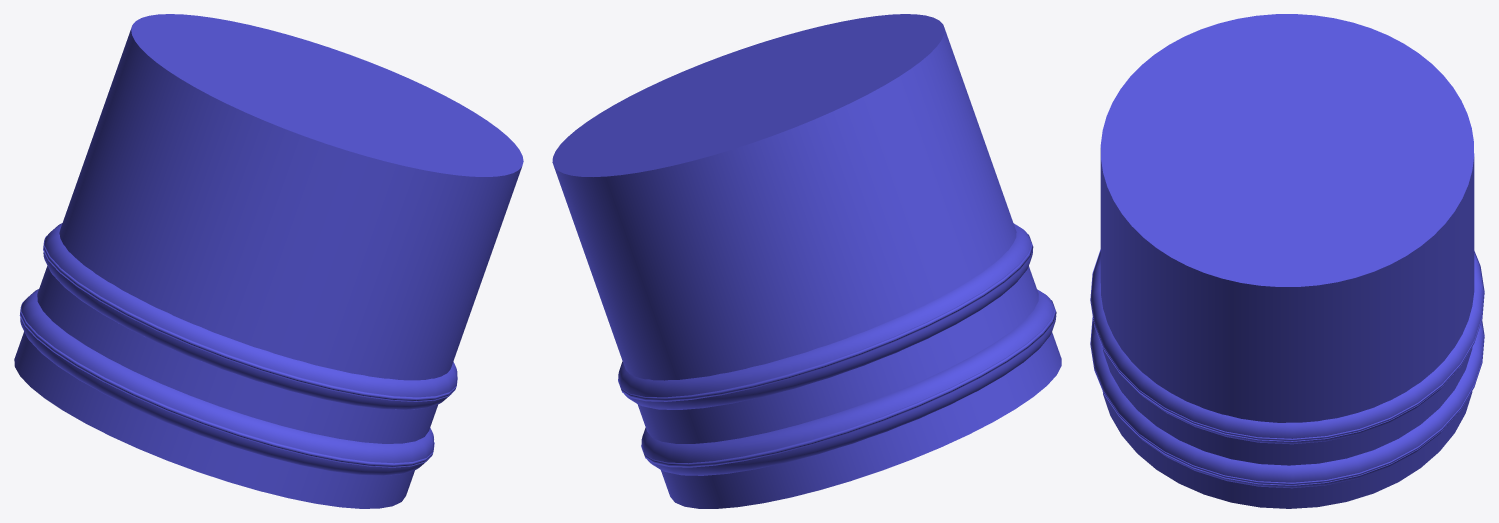
File: bombilla139.obj
The picture shows the model from 3 angles, left to right: view 1: azimuth 30°, elevation 25°; view 2: azimuth 150°, elevation 25°; view 3: azimuth 270°, elevation 25°; orthographic projection. The views are drawn at different scales.
Parts seen in each view (by area): view 1: Cylinder001, Cylinder003, Cylinder004, Cylinder006, Cylinder002; view 2: Cylinder001, Cylinder003, Cylinder004, Cylinder006, Cylinder002; view 3: Cylinder001, Cylinder004, Cylinder002, Cylinder003, Cylinder006.
Boxes of the visible parts, x1,y1,x2,y2 form: Cylinder001: (59, 14, 523, 380); Cylinder003: (37, 266, 438, 443); Cylinder004: (19, 289, 434, 475); Cylinder006: (14, 331, 414, 508); Cylinder002: (43, 223, 457, 410); Cylinder001: (552, 14, 1016, 380); Cylinder003: (637, 266, 1038, 443); Cylinder004: (641, 289, 1056, 475); Cylinder006: (661, 332, 1061, 508); Cylinder002: (618, 223, 1033, 409); Cylinder001: (1100, 14, 1474, 422); Cylinder004: (1090, 317, 1484, 488); Cylinder002: (1090, 249, 1484, 444); Cylinder003: (1102, 347, 1472, 465); Cylinder006: (1102, 391, 1472, 508).
Size of the model in its own units: 85.76 by 80.87 by 72.21.
